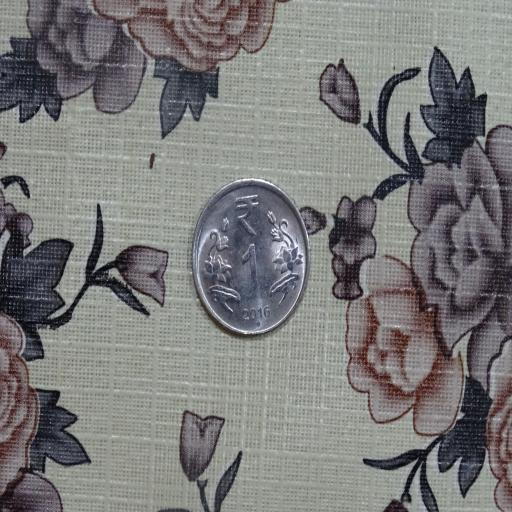rupee1: (188, 178, 314, 340)
